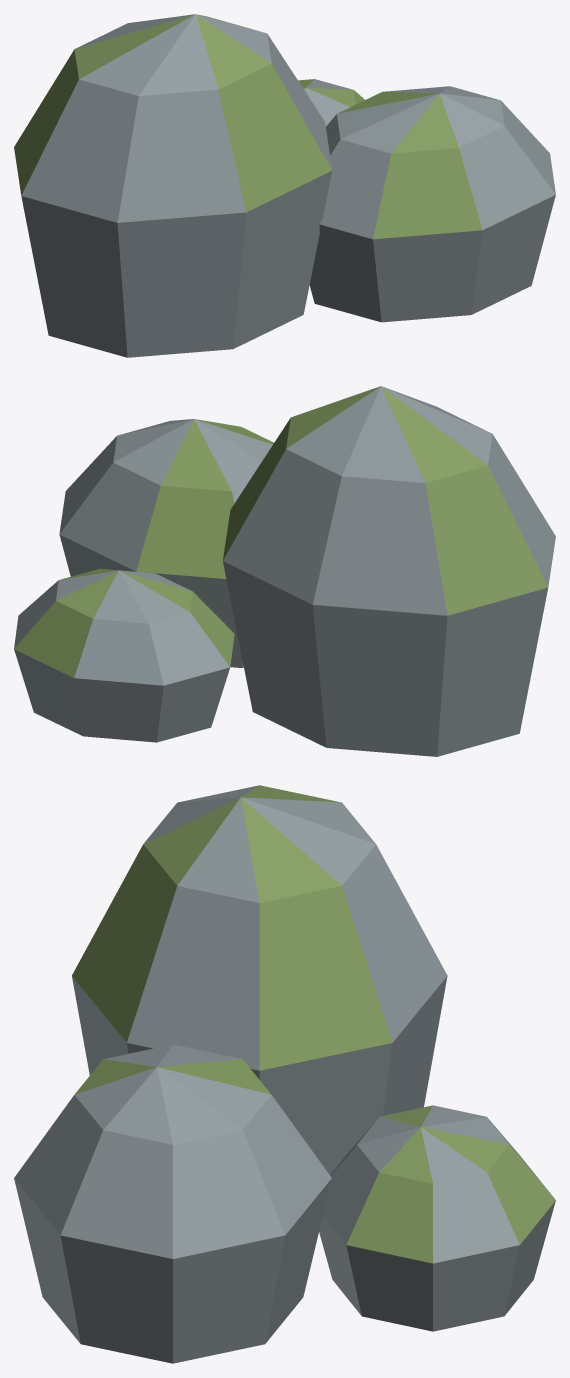
Rendered from SM_MarshwardRockCluster_01.fbx.
3 renders of one model, top to bottom at view 1: azimuth 30°, elevation 25°; view 2: azimuth 150°, elevation 25°; view 3: azimuth 270°, elevation 25°, orthographic. The views are drawn at different scales.
Parts seen in each view (by area): view 1: SM_MarshwardRockCluster_01; view 2: SM_MarshwardRockCluster_01; view 3: SM_MarshwardRockCluster_01.
Boxes of the visible parts, <box> form: SM_MarshwardRockCluster_01: <box>14,14,555,357</box>; SM_MarshwardRockCluster_01: <box>14,386,555,756</box>; SM_MarshwardRockCluster_01: <box>14,785,555,1363</box>.
Size of what is drawn, in the model's own units: 460 by 340 by 260.
